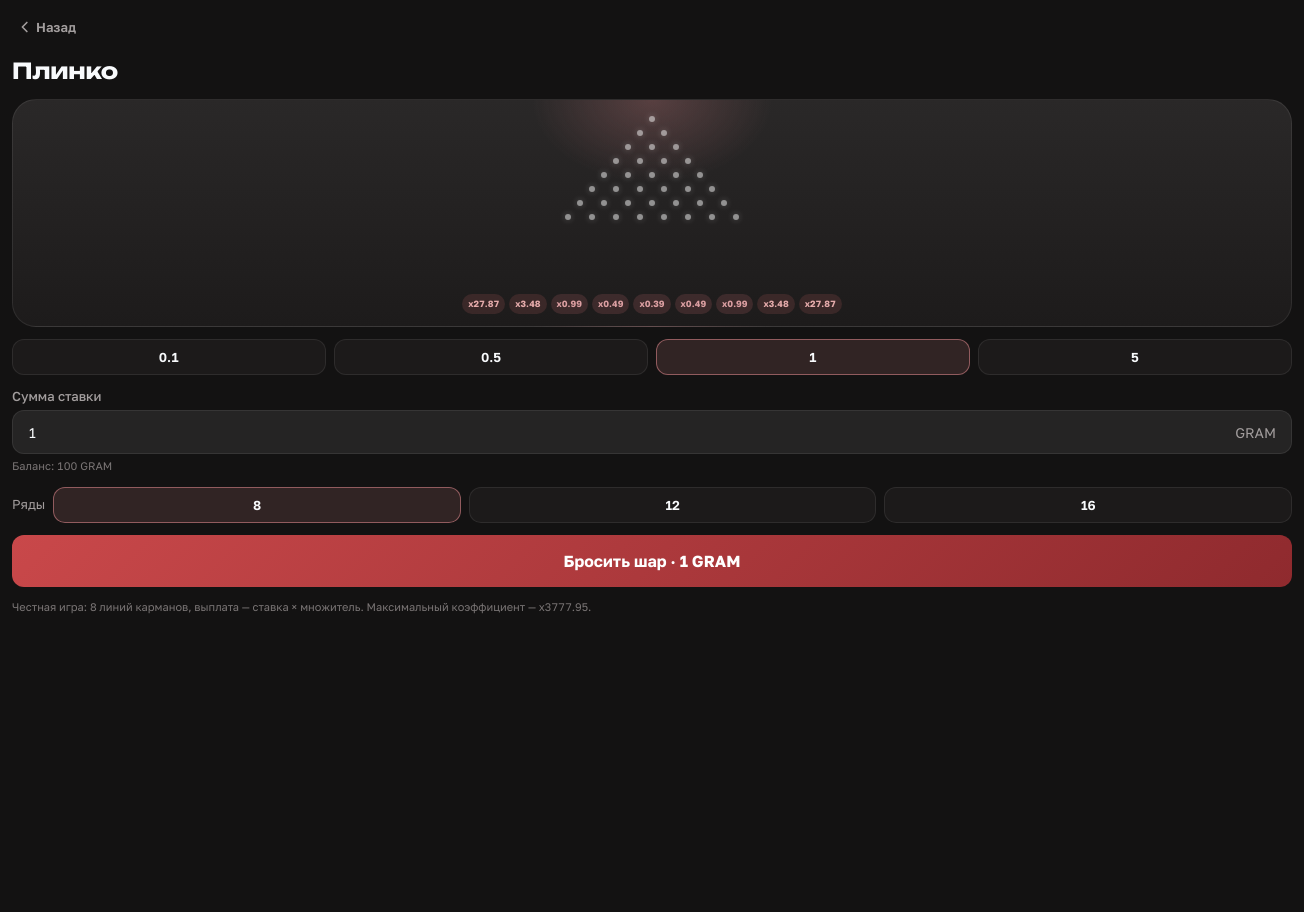
Test: PlinkoScreen (4.6: UI плинко) › переключение рядов 8 → 16 меняет число карманов
This screenshot has width=1304, height=912.
Click the button "16": {"x": 1088, "y": 504} [884,486,1292,522]
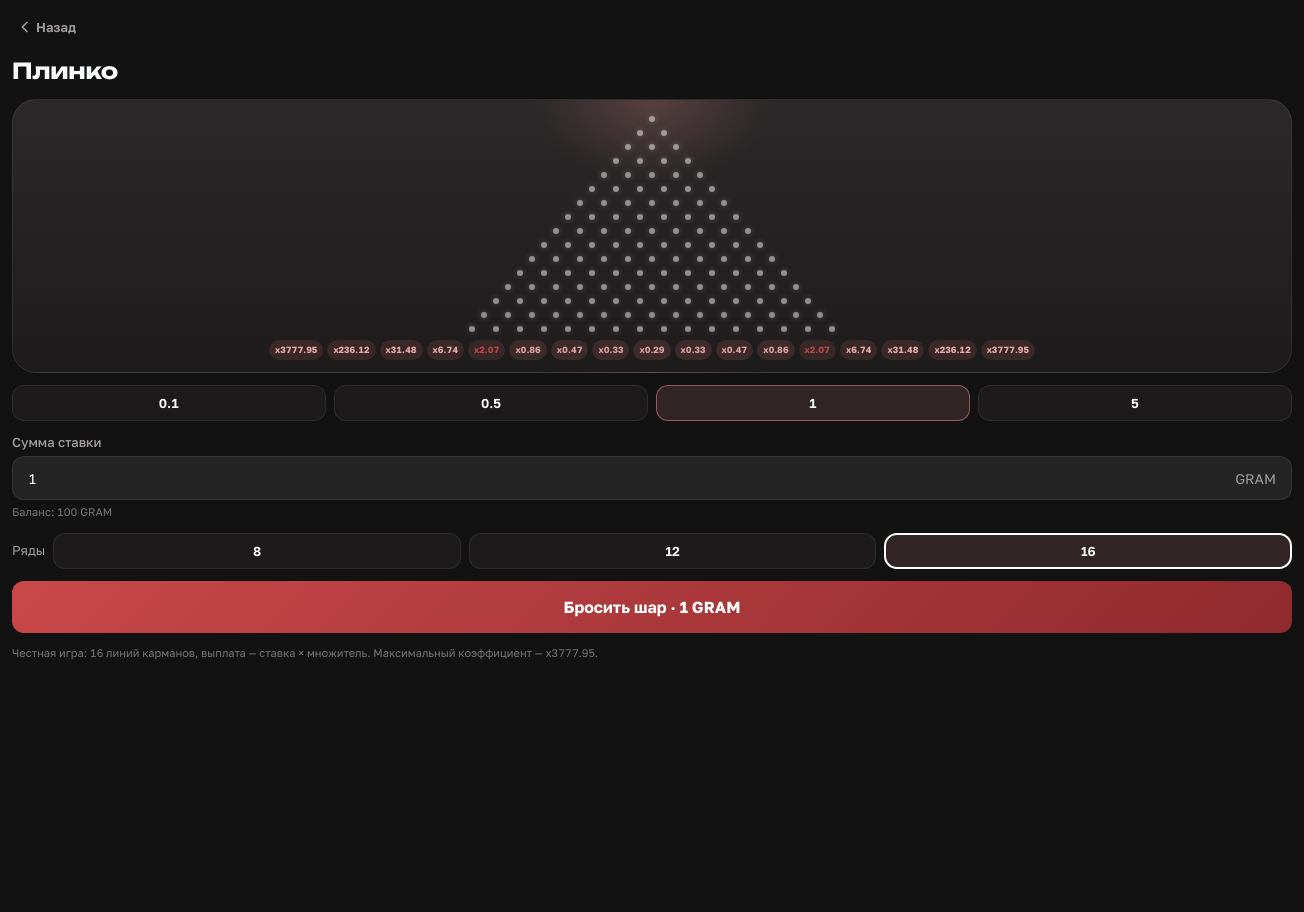
Result: the text "16 линий карманов" is shown at [12,646,598,658]
